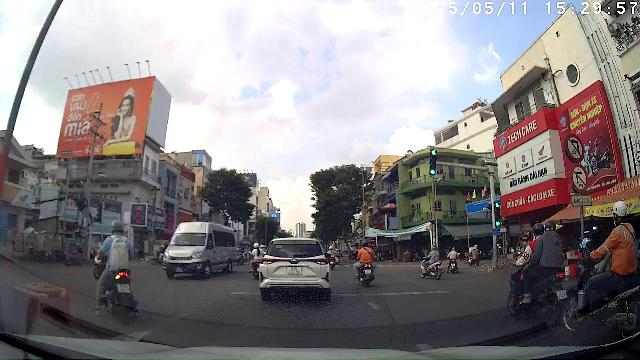103b-cam-oto-re-phai: (569, 164, 589, 193)
103c-cam-oto-re-trai: (564, 134, 585, 162)
